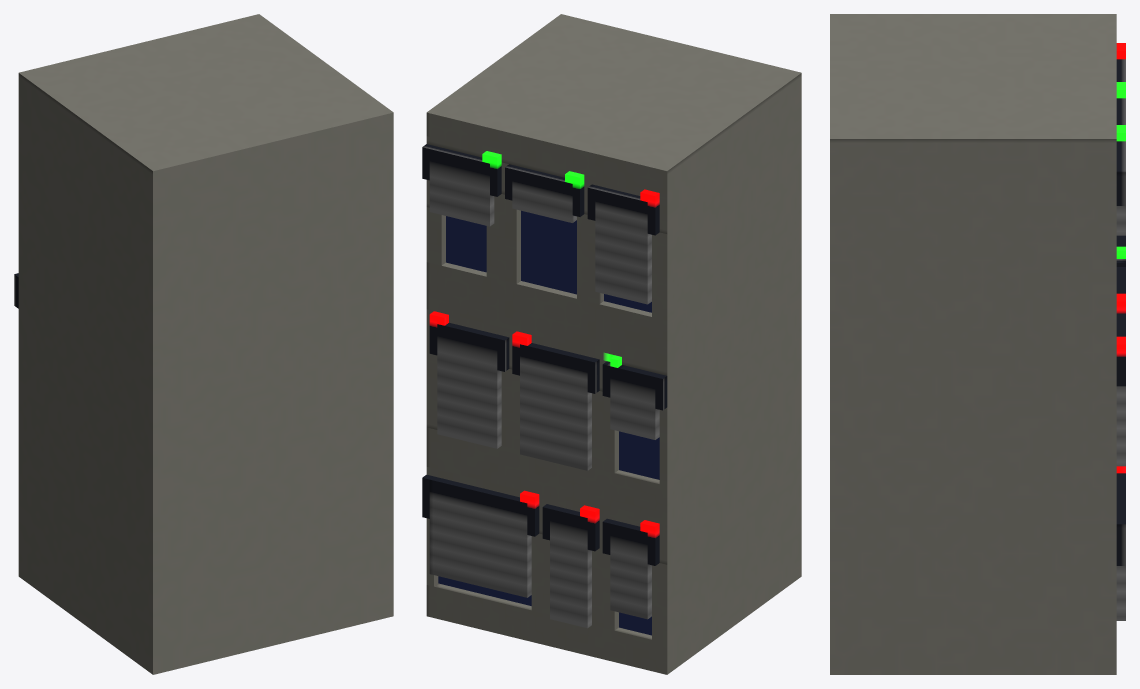
The model's file is budynek_04_okna.dae.
3 renders of one model, left to right at view 1: azimuth 30°, elevation 25°; view 2: azimuth 150°, elevation 25°; view 3: azimuth 270°, elevation 25°, orthographic. The views are drawn at different scales.
Visible parts, largest first — view 1: Content; view 2: Content; view 3: Content.
Part boxes in pixels (x1=…): Content: x1=14, y1=14, x2=393, y2=674; Content: x1=422, y1=14, x2=801, y2=674; Content: x1=830, y1=14, x2=1125, y2=674.
Size of the model in its own units: 32 by 64 by 32.
1 material, 1 textured.
